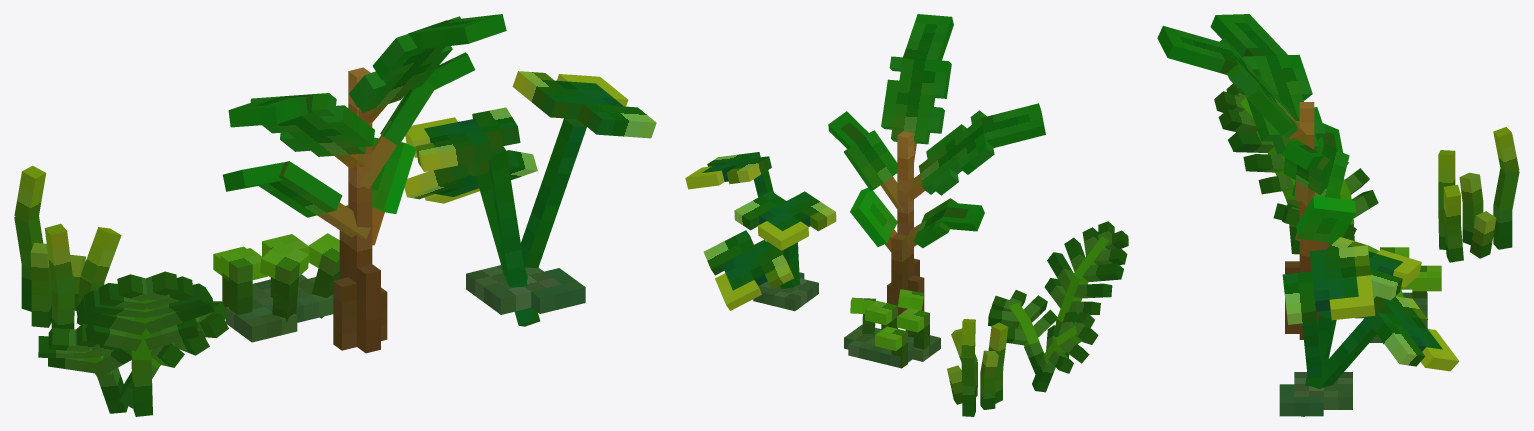
The model's file is deco_bush.glb.
3 views of the same model, side by side, from view 1: azimuth 30°, elevation 25°; view 2: azimuth 150°, elevation 25°; view 3: azimuth 270°, elevation 25° (orthographic). The views are drawn at different scales.
Visible parts, largest first — view 1: F01-Local, bajiao-leaf-Local, bajiao-Local, f01-Local, a-3-1-Local, bajiao-leaf2-Local, bajiao-leaf-b-Local, guibei-Local, a-2-1-Local, wufeng-Local, a-3-2-1-Local, t-Local (+9 smaller); view 2: F01-Local, bajiao-leaf-Local, a-3-1-Local, bajiao-leaf-b-Local, bajiao-Local, bajiao-leaf2-Local, f01-Local, a-2-1-Local, wufeng-Local, bajiao-leaf5-Local, a-3-2-1-Local, bajiao-leaf2-1-Local (+13 smaller); view 3: F01-Local, bajiao-leaf-Local, bajiao-leaf-b-Local, guibei-Local, bajiao-leaf5-Local, bajiao-leaf2-Local, a-3-1-Local, bajiao-Local, t-Local, hupi-2-Local, a-2-1-Local, bajiao-leaf2-1-Local (+10 smaller).
Boxes of the visible parts, <box> form: F01-Local: <box>404,71,656,326</box>; bajiao-leaf-Local: <box>250,16,460,167</box>; bajiao-Local: <box>333,67,387,353</box>; f01-Local: <box>220,233,339,322</box>; a-3-1-Local: <box>38,276,209,375</box>; bajiao-leaf2-Local: <box>259,81,435,239</box>; bajiao-leaf-b-Local: <box>228,14,506,127</box>; guibei-Local: <box>466,265,585,314</box>; a-2-1-Local: <box>76,283,214,335</box>; wufeng-Local: <box>225,274,333,342</box>; a-3-2-1-Local: <box>48,271,228,351</box>; t-Local: <box>14,165,121,283</box>; F01-Local: <box>685,152,836,310</box>; bajiao-leaf-Local: <box>881,56,994,200</box>; a-3-1-Local: <box>988,227,1127,373</box>; bajiao-leaf-b-Local: <box>903,14,1045,147</box>; bajiao-Local: <box>887,131,924,315</box>; bajiao-leaf2-Local: <box>844,130,957,248</box>; f01-Local: <box>850,289,929,349</box>; a-2-1-Local: <box>1047,237,1123,298</box>; wufeng-Local: <box>844,324,940,367</box>; bajiao-leaf5-Local: <box>850,187,897,251</box>; a-3-2-1-Local: <box>991,221,1128,344</box>; bajiao-leaf2-1-Local: <box>828,111,984,231</box>; F01-Local: <box>1282,237,1459,416</box>; bajiao-leaf-Local: <box>1219,38,1325,154</box>; bajiao-leaf-b-Local: <box>1157,14,1287,74</box>; guibei-Local: <box>1279,372,1352,416</box>; bajiao-leaf5-Local: <box>1296,195,1355,256</box>; bajiao-leaf2-Local: <box>1283,137,1349,241</box>; a-3-1-Local: <box>1218,109,1378,240</box>; bajiao-Local: <box>1285,102,1328,339</box>; t-Local: <box>1443,127,1519,225</box>; hupi-2-Local: <box>1438,202,1483,262</box>; a-2-1-Local: <box>1228,131,1284,172</box>; bajiao-leaf2-1-Local: <box>1282,123,1342,169</box>.
Size of the model in its own units: 38.24 by 25.66 by 24.75.
26 materials, 26 textured.
